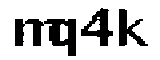4: (78, 7, 113, 49)
k: (115, 6, 151, 51)
m: (9, 13, 56, 51)
q: (50, 17, 80, 60)
